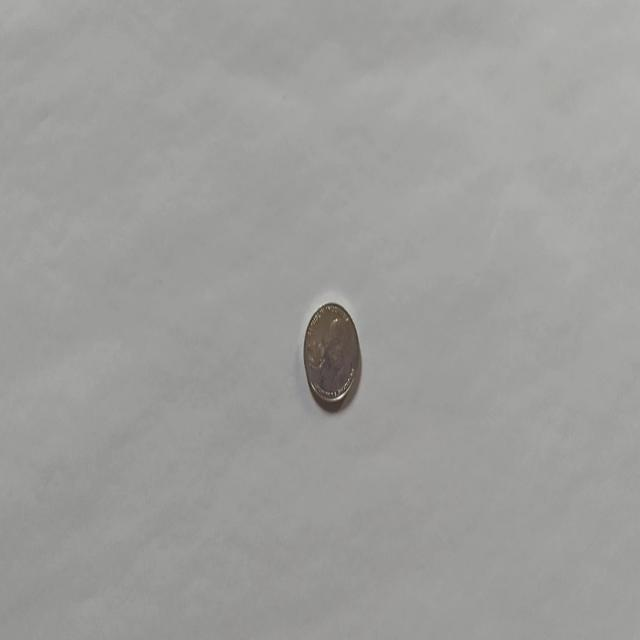lima ratus rupiah: (302, 299, 361, 409)
